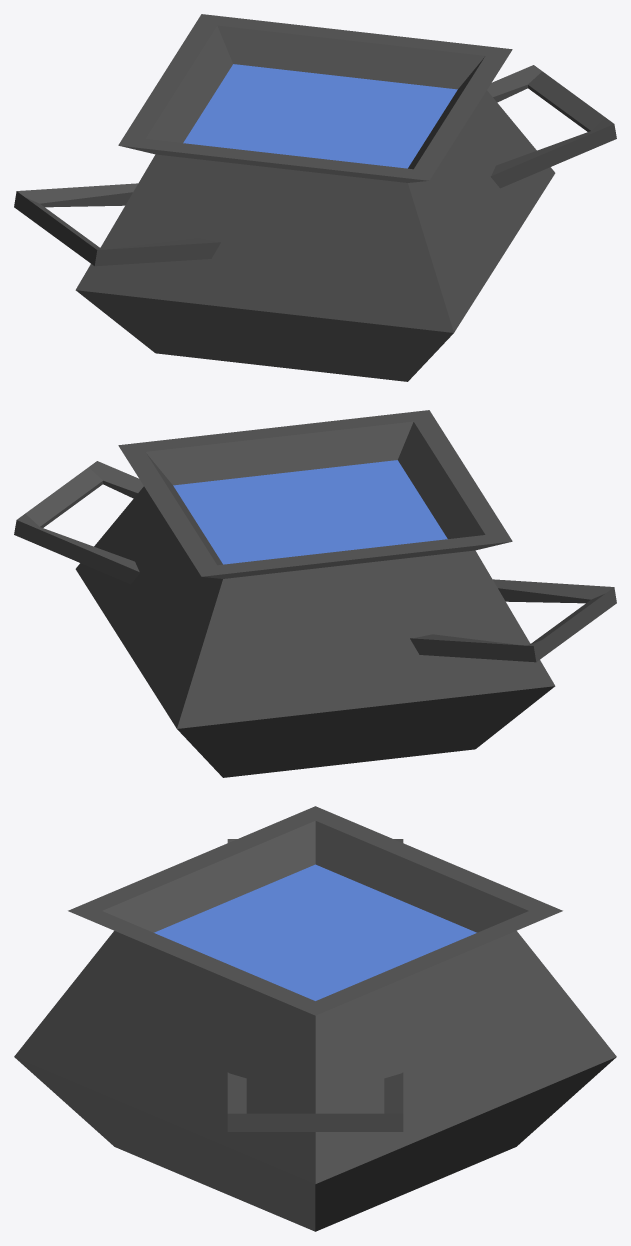
The model's file is cauldron.fbx.
3 renders of one model, top to bottom at view 1: azimuth 30°, elevation 25°; view 2: azimuth 150°, elevation 25°; view 3: azimuth 270°, elevation 25°, orthographic. The views are drawn at different scales.
Parts seen in each view (by area): view 1: Cauldron; view 2: Cauldron; view 3: Cauldron.
Part boxes in pixels (x1,y1,x2,y2): Cauldron: [14, 14, 616, 381]; Cauldron: [14, 410, 616, 777]; Cauldron: [14, 806, 616, 1231].
Size of the model in its own units: 1385 by 550 by 1273.
